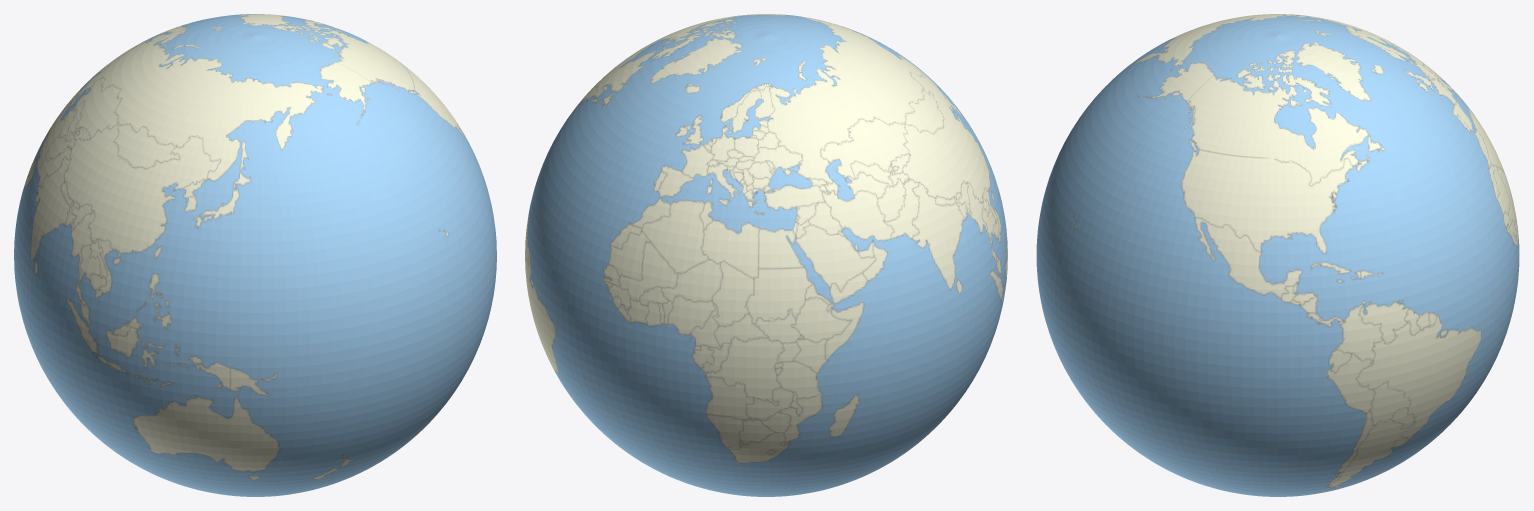
Rendered from earthSvg.obj.
3 renders of one model, left to right at view 1: azimuth 30°, elevation 25°; view 2: azimuth 150°, elevation 25°; view 3: azimuth 270°, elevation 25°, orthographic.
Parts seen in each view (by area): view 1: Sphere; view 2: Sphere; view 3: Sphere.
Boxes of the visible parts, bbox=[...] form: Sphere: bbox=[14, 14, 496, 496]; Sphere: bbox=[525, 14, 1007, 496]; Sphere: bbox=[1036, 14, 1519, 496].
Bounding box in the file's own units: 2 × 2.01 × 2.
Materials: 1 (1 with a texture image).
